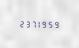five: (47, 20, 52, 28)
nine: (41, 20, 46, 28), (53, 20, 58, 28)
one: (35, 19, 40, 28)
seven: (29, 19, 34, 27)
three: (23, 19, 28, 27)
two: (17, 19, 22, 27)
